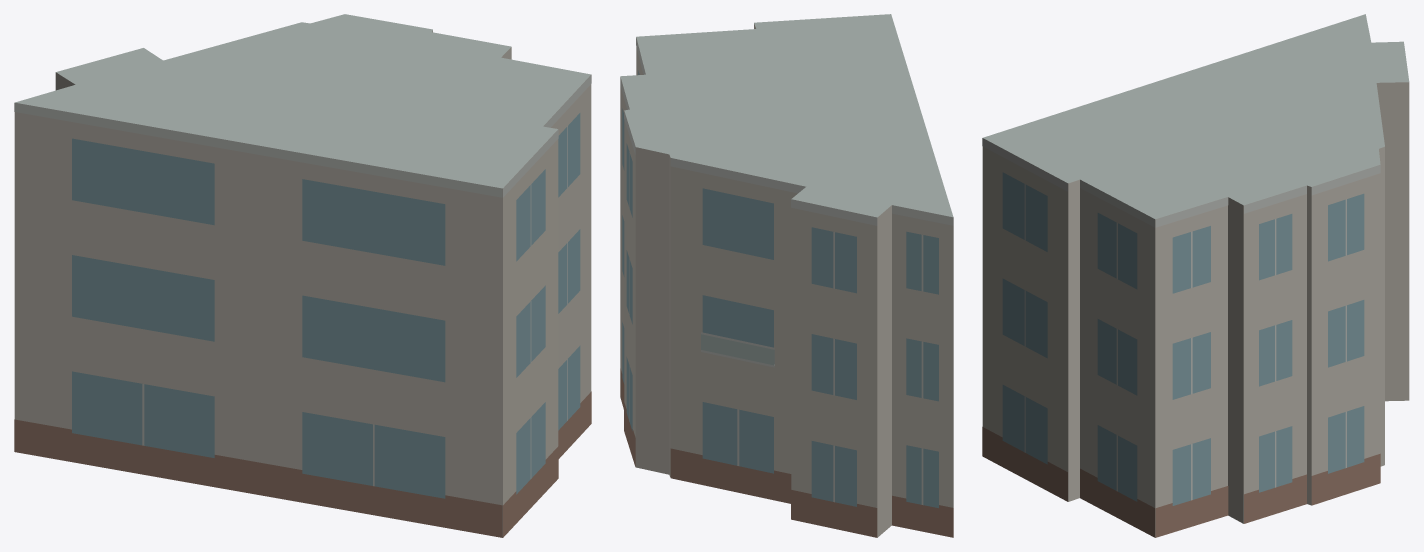
The model's file is survey-upis-32661578.glb.
The picture shows the model from 3 angles, left to right: view 1: azimuth 30°, elevation 25°; view 2: azimuth 150°, elevation 25°; view 3: azimuth 270°, elevation 25°; orthographic projection. The views are drawn at different scales.
Visible parts, largest first — view 1: survey-upis-32661578.tmp; view 2: survey-upis-32661578.tmp; view 3: survey-upis-32661578.tmp.
Boxes of the visible parts, x1,y1,x2,y2 form: survey-upis-32661578.tmp: (14, 14, 591, 537); survey-upis-32661578.tmp: (620, 14, 953, 537); survey-upis-32661578.tmp: (982, 14, 1409, 537).
Bounding box in the file's own units: 12.66 × 9.15 × 11.12.
